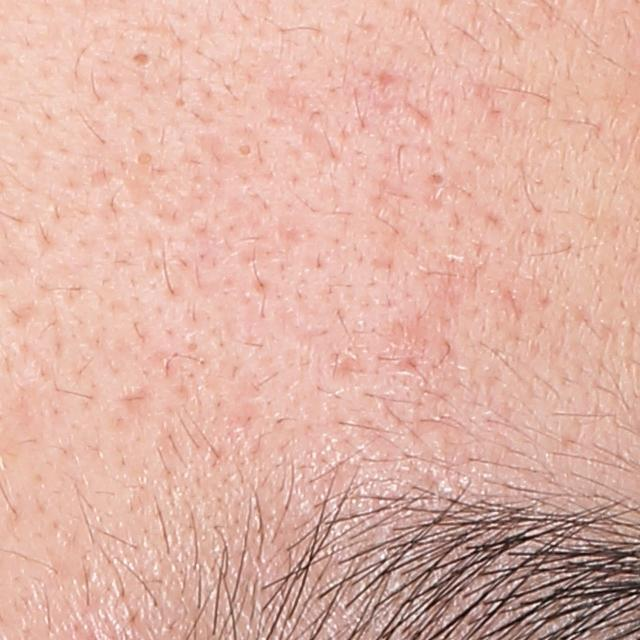atrophic_scar: (380, 250, 478, 383), (119, 168, 188, 225), (119, 378, 157, 416), (196, 131, 224, 160)
comedo: (122, 44, 156, 76), (133, 147, 156, 172), (426, 167, 449, 192), (234, 141, 256, 162)
